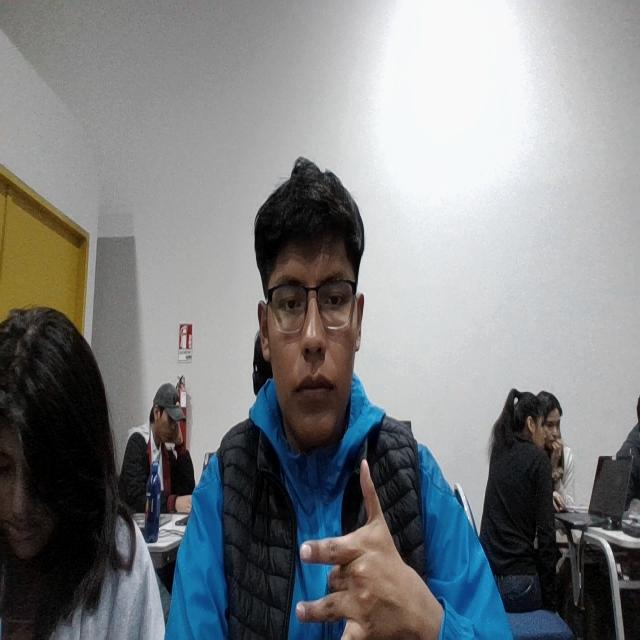feel: (282, 451, 441, 640)
